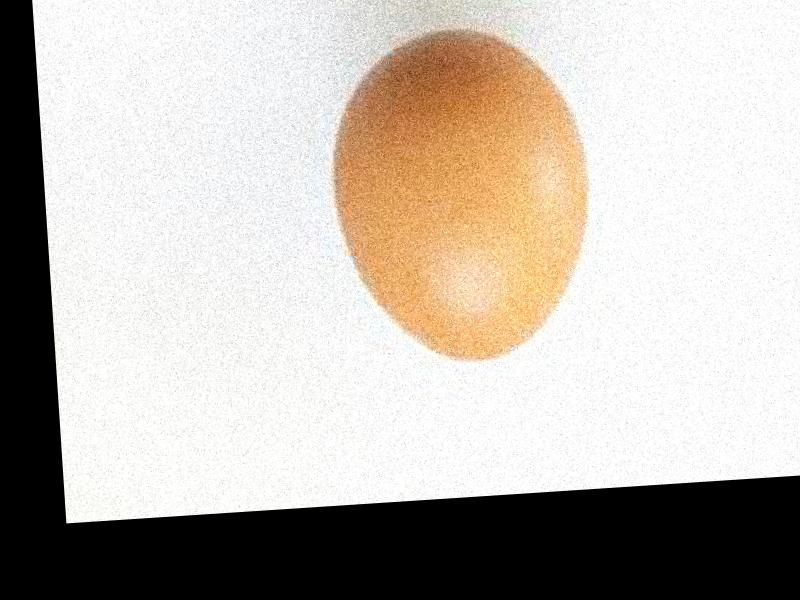Eggs: (321, 18, 596, 374)
